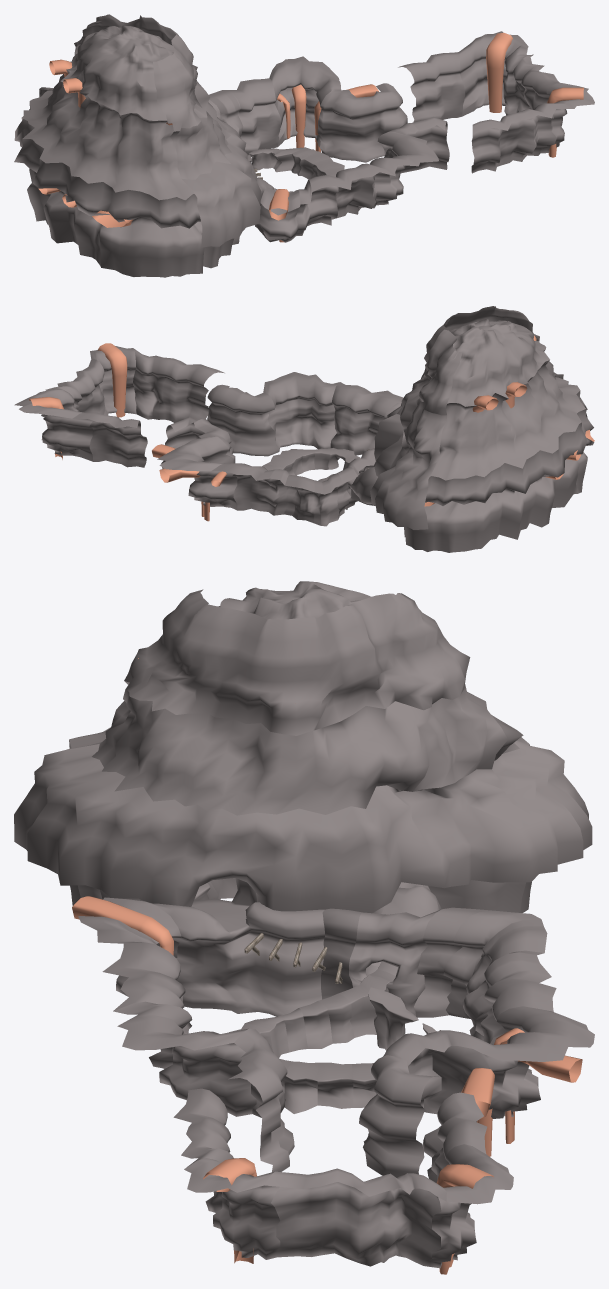
File: stage_final.fbx
3 renders of one model, top to bottom at view 1: azimuth 30°, elevation 25°; view 2: azimuth 150°, elevation 25°; view 3: azimuth 270°, elevation 25°, orthographic. The views are drawn at different scales.
Visible parts, largest first — view 1: polySurface188, polySurface665, polySurface656, polySurface666, polySurface66, polySurface620, polySurface105, polySurface618, polySurface117, polySurface58, polySurface78, polySurface619 (+14 smaller); view 2: polySurface188, polySurface665, polySurface656, polySurface666, polySurface70, polySurface105, polySurface73, polySurface620, polySurface78, polySurface58, polySurface618, polySurface117 (+14 smaller); view 3: polySurface666, polySurface619, polySurface620, polySurface121, polySurface86, polySurface91, polySurface58, polySurface70, polySurface66, polySurface188, polySurface139, polySurface617 (+16 smaller).
Boxes of the visible parts, x1,y1,x2,y2 form: polySurface188: (14, 103, 239, 277); polySurface665: (22, 69, 194, 200); polySurface656: (60, 25, 174, 120); polySurface666: (39, 87, 261, 247); polySurface66: (317, 83, 407, 162); polySurface620: (74, 14, 207, 131); polySurface105: (471, 103, 574, 173); polySurface618: (209, 78, 281, 156); polySurface117: (398, 52, 465, 122); polySurface58: (269, 56, 340, 147); polySurface78: (307, 163, 394, 226); polySurface619: (170, 82, 231, 179); polySurface188: (350, 382, 594, 552); polySurface665: (430, 350, 585, 480); polySurface656: (447, 319, 549, 406); polySurface666: (370, 372, 563, 529); polySurface70: (263, 372, 339, 450); polySurface105: (133, 349, 224, 422); polySurface73: (207, 384, 279, 456); polySurface620: (418, 306, 539, 415); polySurface78: (330, 382, 403, 455); polySurface58: (157, 436, 237, 510); polySurface618: (211, 463, 300, 519); polySurface117: (73, 412, 147, 467); polySurface666: (14, 740, 592, 912); polySurface619: (92, 681, 523, 815); polySurface620: (124, 589, 470, 735); polySurface121: (264, 1168, 446, 1266); polySurface86: (147, 902, 324, 1016); polySurface91: (321, 907, 492, 1023); polySurface58: (424, 1006, 594, 1122); polySurface70: (113, 1001, 256, 1116); polySurface66: (359, 1030, 451, 1177); polySurface188: (69, 740, 531, 975); polySurface139: (229, 975, 389, 1057); polySurface617: (443, 910, 547, 1018).
Size of the model in its own units: 3655 by 1460 by 2059.
